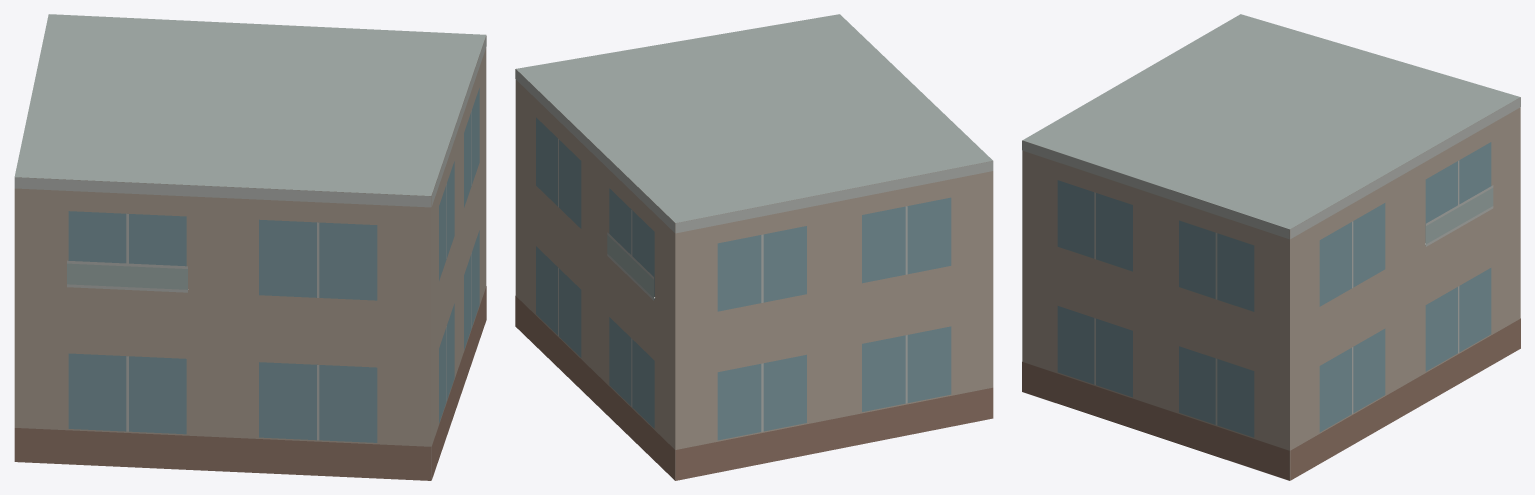
The model's file is survey-upis-32650640.glb.
3 renders of one model, left to right at view 1: azimuth 30°, elevation 25°; view 2: azimuth 150°, elevation 25°; view 3: azimuth 270°, elevation 25°, orthographic. The views are drawn at different scales.
Parts seen in each view (by area): view 1: survey-upis-32650640.tmp; view 2: survey-upis-32650640.tmp; view 3: survey-upis-32650640.tmp.
Boxes of the visible parts, x1,y1,x2,y2 form: survey-upis-32650640.tmp: (14, 14, 486, 480); survey-upis-32650640.tmp: (515, 14, 993, 480); survey-upis-32650640.tmp: (1022, 14, 1520, 480).
Bounding box in the file's own units: 11.21 × 6.1 × 10.97.
